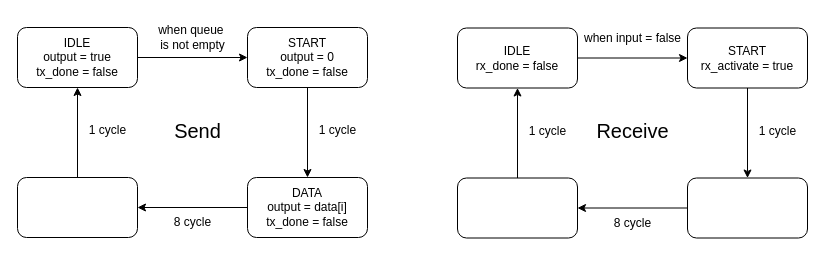
Image size: 825x255. Some labels were removed from this diagram. Each missing label, with the centre of its shape:
"DATA rx_data[i] = input" goes at (x=747, y=207).
"STOP output = true, tx_done = true" goes at (x=77, y=207).
"STOP rx_done = true" goes at (x=517, y=207).
